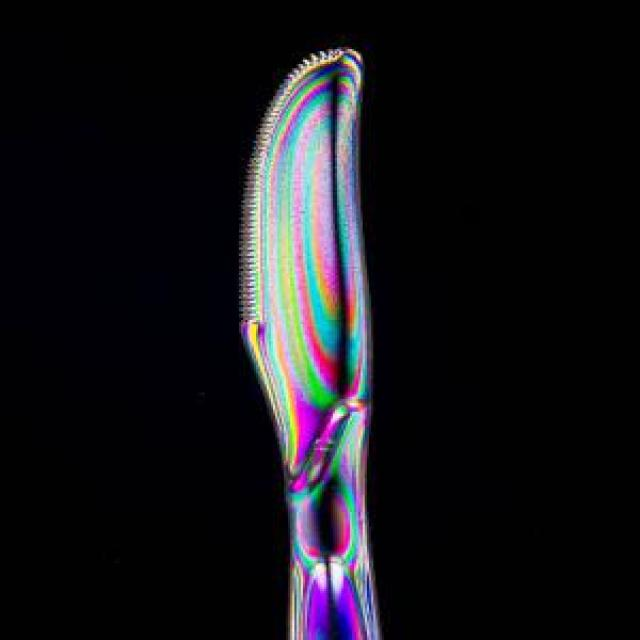knife: (241, 45, 368, 636)
